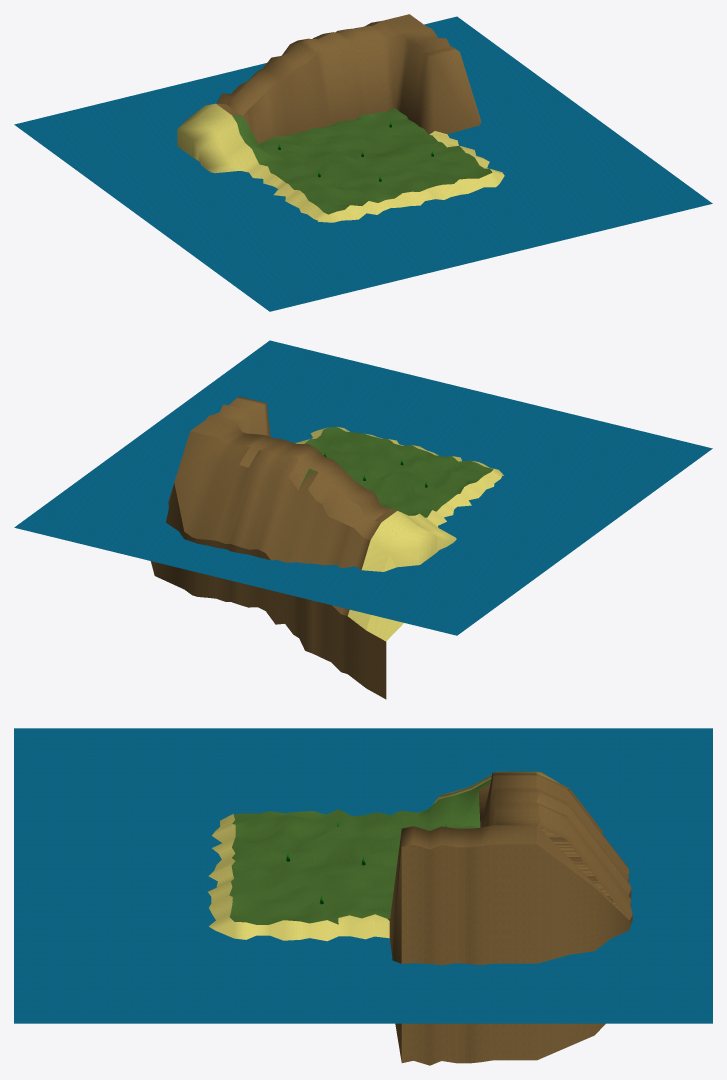
The picture shows the model from 3 angles, top to bottom: view 1: azimuth 30°, elevation 25°; view 2: azimuth 150°, elevation 25°; view 3: azimuth 270°, elevation 25°; orthographic projection. The views are drawn at different scales.
Visible parts, largest first — view 1: NP_Ocean, Mountains, Plains, Beaches, Pathway; view 2: NP_Ocean, Mountains, Plains, Beaches, Pathway; view 3: NP_Ocean, Mountains, Plains, Beaches, Pathway.
Part boxes in pixels (x1=…): NP_Ocean: x1=14, y1=16, x2=712, y2=311; Mountains: x1=217, y1=21, x2=481, y2=143; Plains: x1=232, y1=107, x2=492, y2=214; Beaches: x1=177, y1=103, x2=504, y2=222; Pathway: x1=216, y1=14, x2=459, y2=115; NP_Ocean: x1=14, y1=340, x2=712, y2=635; Mountains: x1=150, y1=403, x2=386, y2=699; Plains: x1=299, y1=427, x2=493, y2=517; Beaches: x1=295, y1=427, x2=503, y2=641; Pathway: x1=191, y1=396, x2=396, y2=522; NP_Ocean: x1=14, y1=728, x2=712, y2=1023; Mountains: x1=388, y1=773, x2=632, y2=1065; Plains: x1=229, y1=779, x2=491, y2=924; Beaches: x1=208, y1=771, x2=558, y2=941; Pathway: x1=401, y1=772, x2=540, y2=849.
Size of the model in its own units: 1600 by 646 by 1600.
7 materials, 7 textured.
